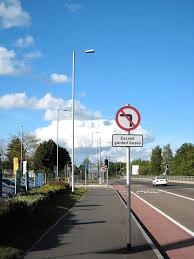No_left_turn: (116, 105, 141, 131)
